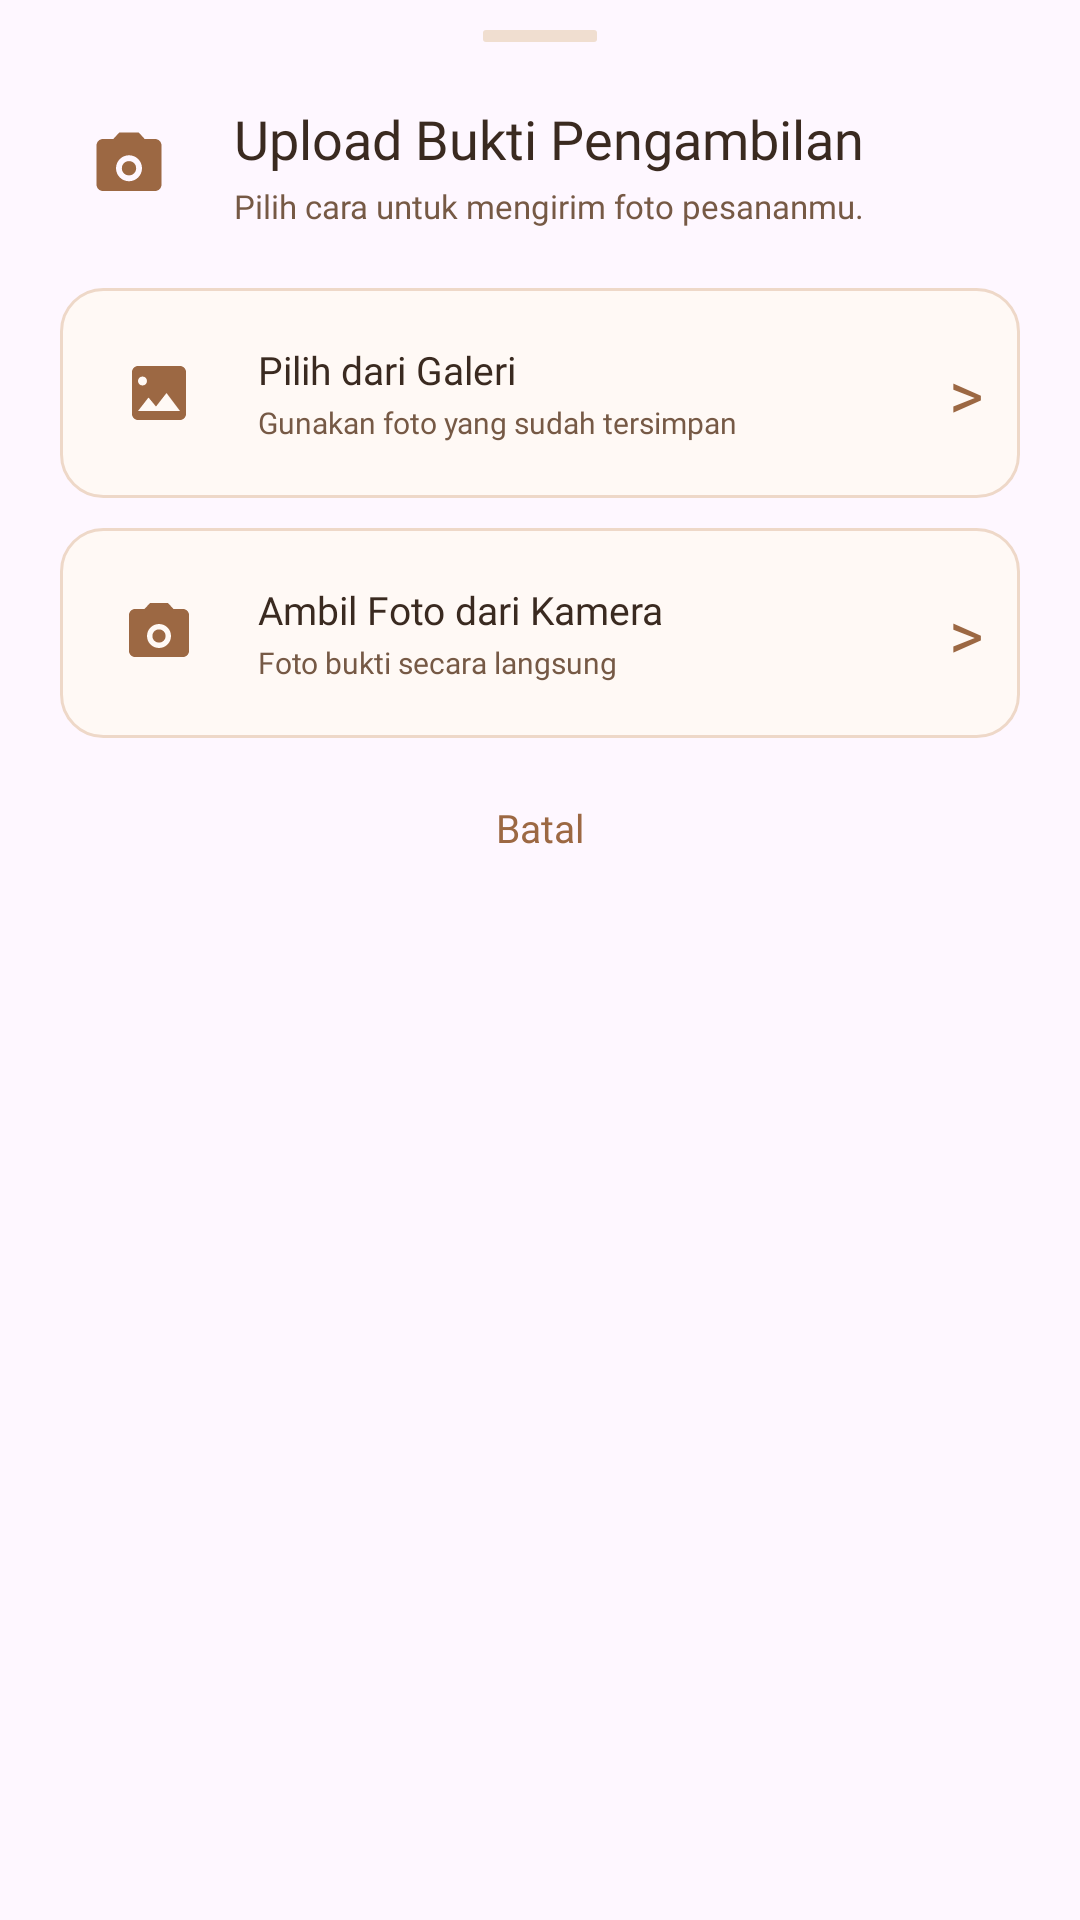

Icon click points for this 1080 × 1920 phone screenshot, format point (x, y):
photo camera: point (129, 161), point (159, 630)
photo library: point (159, 393)
